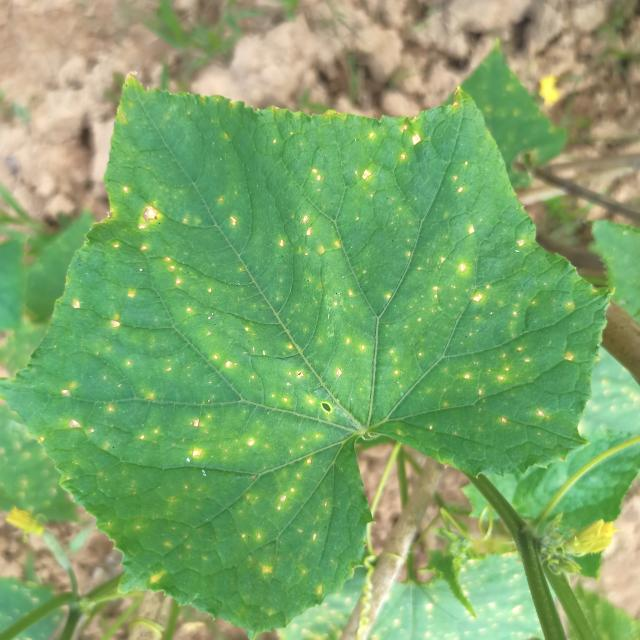disease_cucumber: (52, 92, 568, 599)
